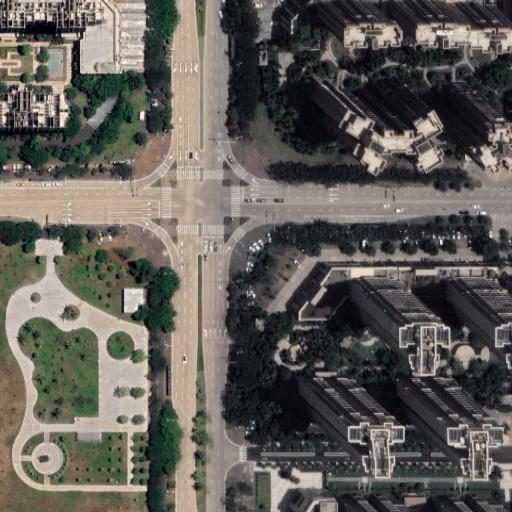building: (311, 79, 417, 147), (349, 267, 512, 296), (300, 378, 360, 436), (401, 379, 460, 435), (385, 0, 491, 29), (448, 278, 502, 333), (295, 267, 349, 319), (355, 276, 407, 330), (0, 86, 66, 127), (0, 0, 102, 26), (441, 88, 490, 138), (289, 489, 328, 512), (439, 500, 503, 512), (344, 501, 406, 512), (124, 288, 144, 312), (405, 497, 428, 506)
